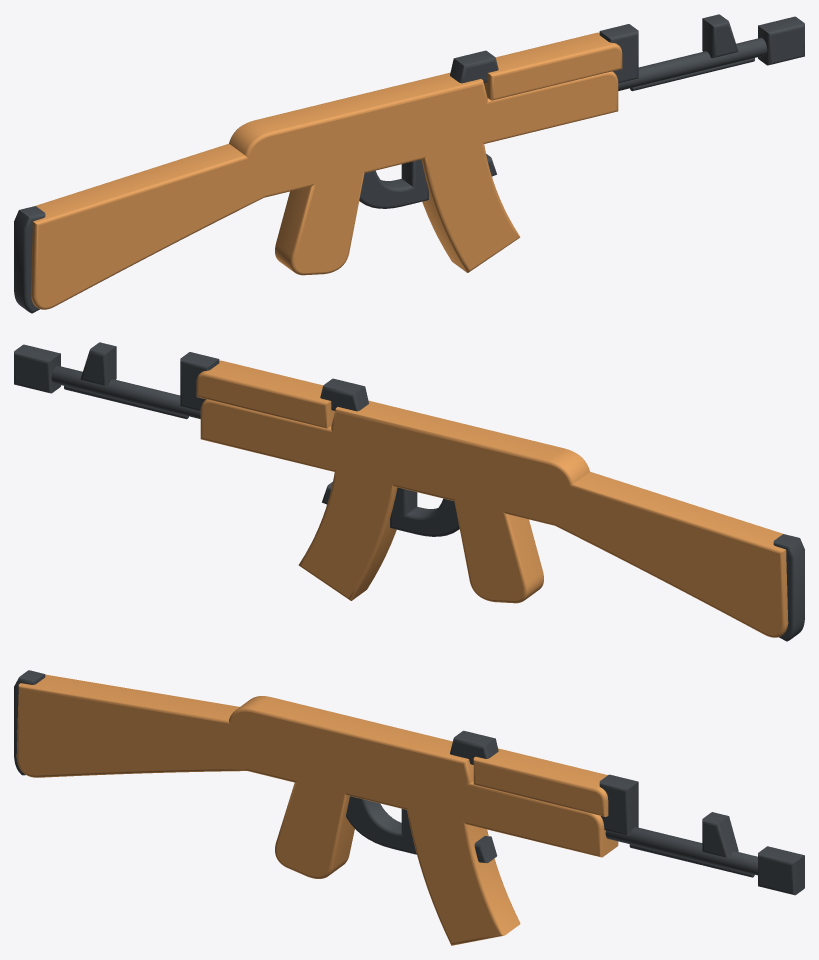
3 renders of one model, top to bottom at view 1: azimuth 30°, elevation 25°; view 2: azimuth 150°, elevation 25°; view 3: azimuth 330°, elevation 25°, orthographic.
Visible parts, largest first — view 1: paint_0, paint_2, paint_5, paint_3, paint_7, paint_8, metal_10, metal_4, metal_1, metal_13, metal_9, metal_12 (+1 smaller); view 2: paint_0, paint_2, paint_5, paint_3, paint_7, paint_8, metal_10, metal_4, metal_1, metal_13, metal_9, metal_12 (+1 smaller); view 3: paint_0, paint_2, paint_5, paint_7, paint_3, paint_8, metal_10, metal_4, metal_13, metal_9, metal_12, metal_14 (+2 smaller).
Boxes of the visible parts, x1,y1,x2,y2 form: paint_0: [30, 143, 264, 309]; paint_2: [229, 72, 487, 197]; paint_5: [421, 143, 520, 272]; paint_3: [275, 172, 364, 275]; paint_7: [485, 71, 618, 143]; paint_8: [484, 32, 622, 100]; metal_10: [618, 37, 767, 90]; metal_4: [359, 159, 428, 208]; metal_1: [14, 206, 45, 313]; metal_13: [758, 16, 804, 65]; metal_9: [599, 24, 638, 83]; metal_12: [702, 14, 738, 58]; paint_0: [554, 471, 788, 637]; paint_2: [331, 400, 589, 525]; paint_5: [298, 471, 397, 600]; paint_3: [454, 500, 543, 603]; paint_7: [200, 399, 333, 471]; paint_8: [196, 360, 334, 428]; metal_10: [51, 365, 200, 418]; metal_4: [390, 487, 459, 536]; metal_1: [773, 534, 804, 641]; metal_13: [14, 344, 60, 393]; metal_9: [180, 352, 219, 411]; metal_12: [80, 342, 116, 386]; paint_0: [16, 674, 246, 777]; paint_2: [229, 696, 473, 824]; paint_5: [407, 808, 520, 945]; paint_7: [466, 781, 618, 857]; paint_3: [275, 781, 354, 878]; paint_8: [473, 748, 608, 816]; metal_10: [605, 827, 757, 875]; metal_4: [346, 796, 416, 854]; metal_13: [758, 846, 804, 895]; metal_9: [599, 774, 638, 835]; metal_12: [702, 812, 738, 858]; metal_14: [450, 730, 498, 764].
Bounding box in the file's own units: 395 × 99.4 × 16.25.
